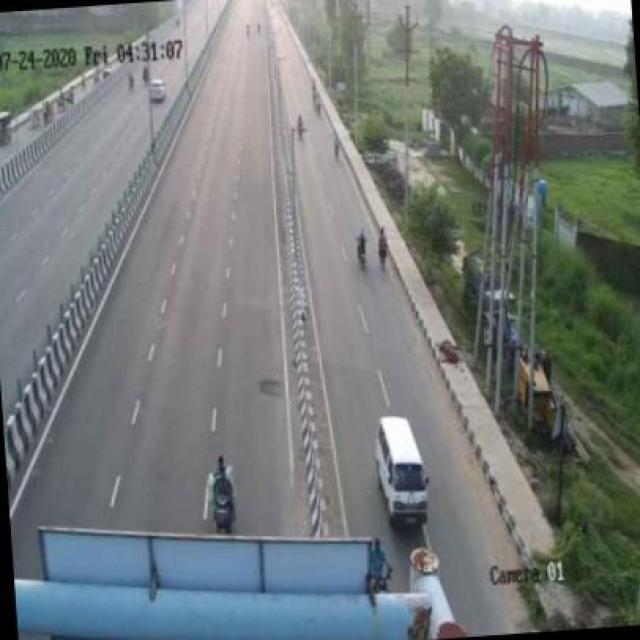car: (374, 404, 438, 550)
